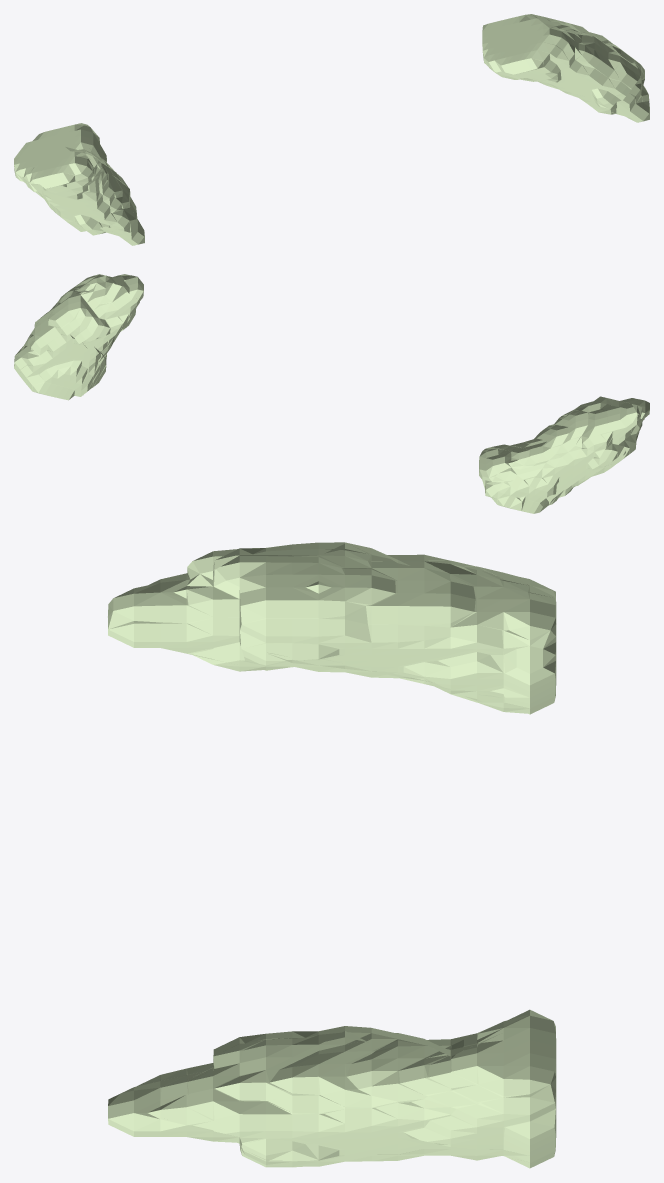
The model's file is VFB_00102118.glb.
3 views of the same model, one above another, from view 1: azimuth 30°, elevation 25°; view 2: azimuth 150°, elevation 25°; view 3: azimuth 270°, elevation 25° (orthographic). The views are drawn at different scales.
Visible parts, largest first — view 1: VFB_00102118; view 2: VFB_00102118; view 3: VFB_00102118.
Part boxes in pixels (x1,y1,x2,y2): VFB_00102118: (14, 14, 649, 245); VFB_00102118: (14, 274, 649, 513); VFB_00102118: (108, 542, 556, 1168).
Size of the model in its own units: 0.1963 by 0.0227 by 0.0668.
